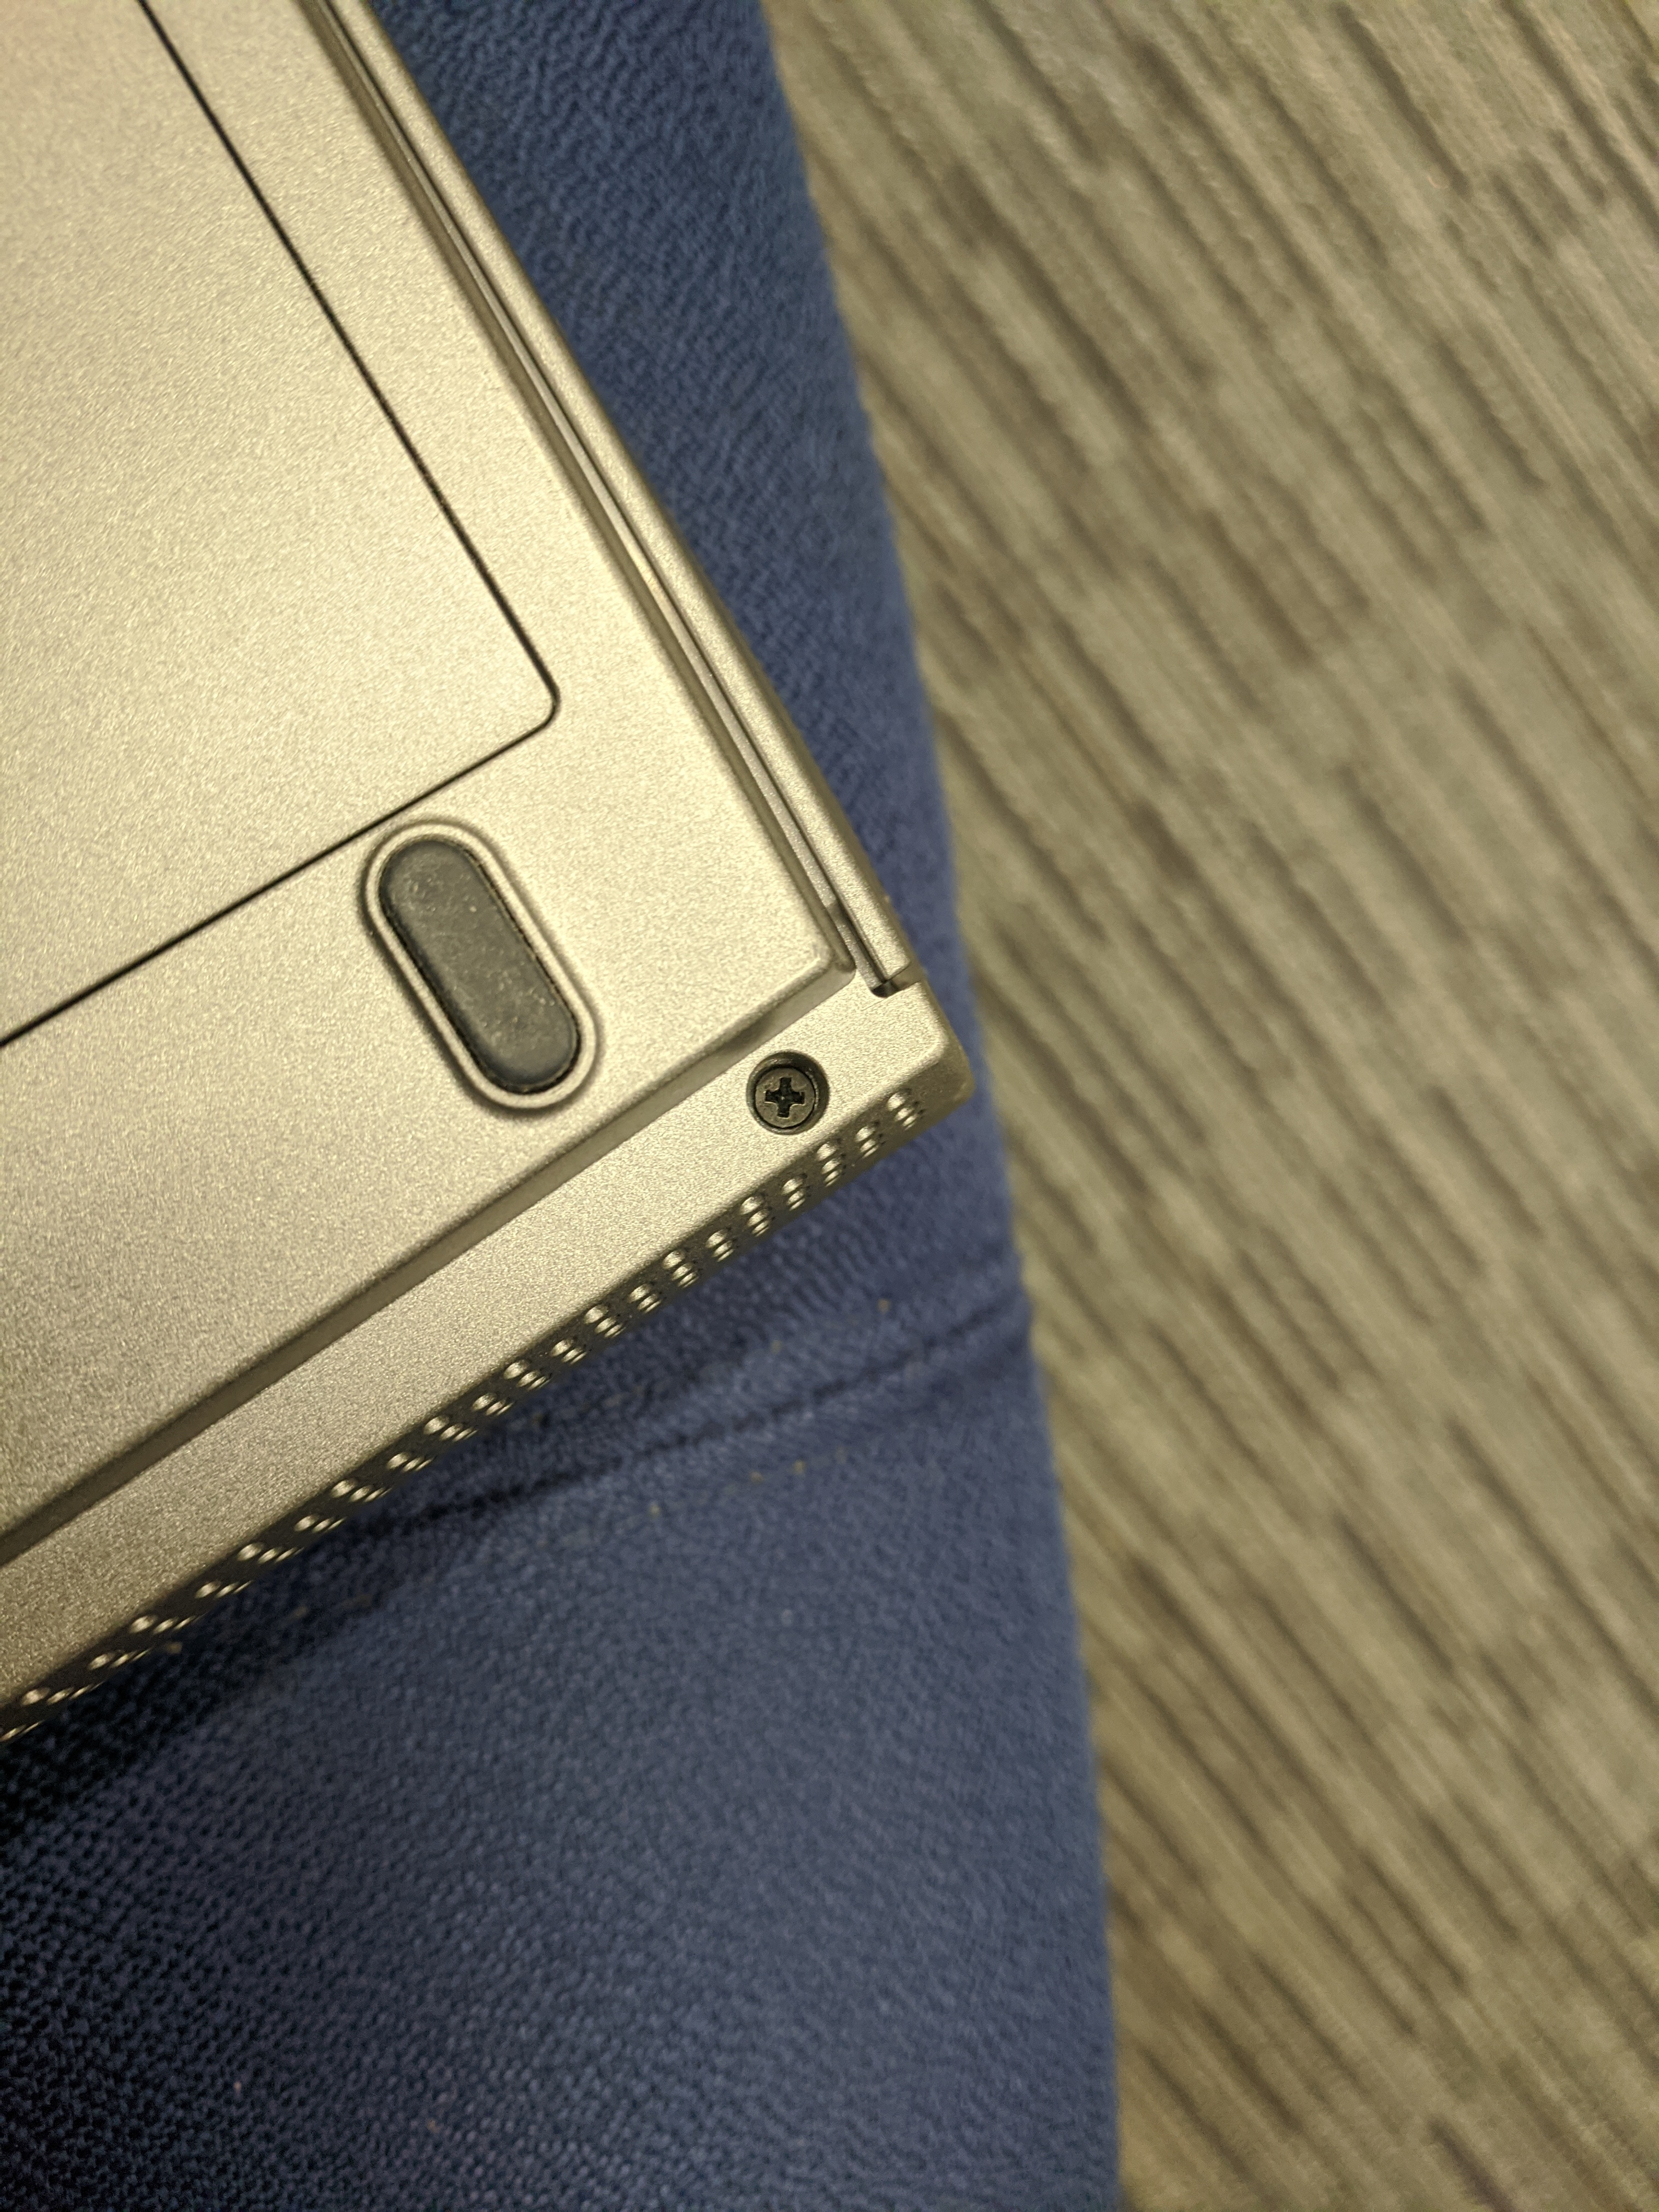cross_recessed_screw: (735, 1047, 833, 1137)
